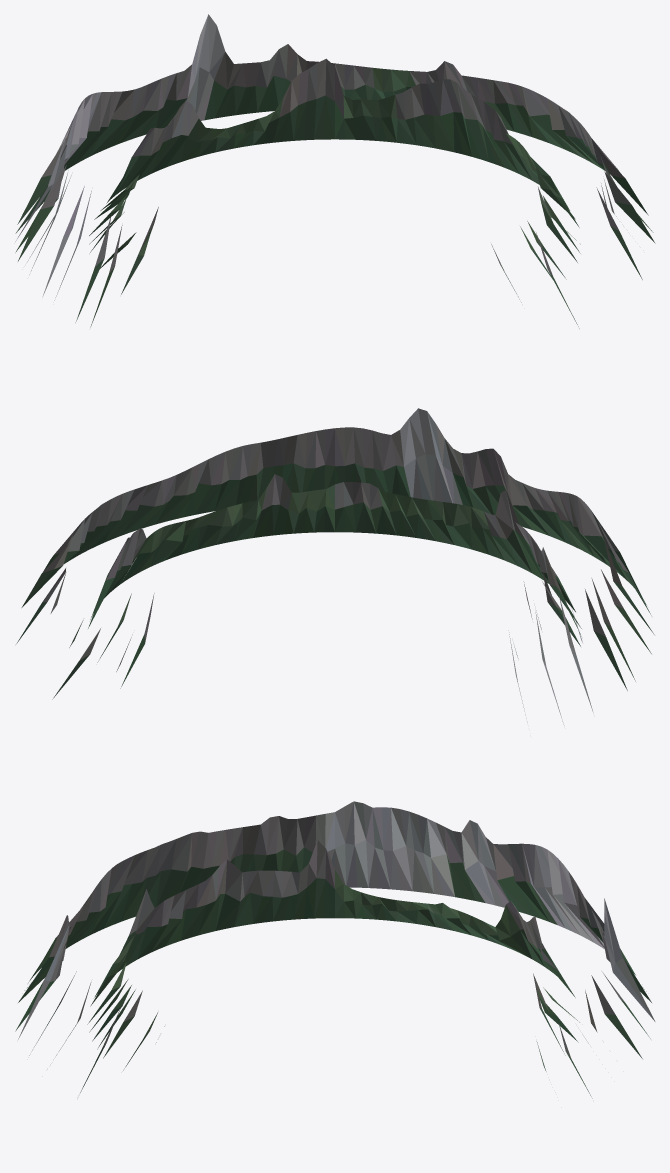
Rendered from skyline_forest.glb.
3 views of the same model, one above another, from view 1: azimuth 30°, elevation 25°; view 2: azimuth 150°, elevation 25°; view 3: azimuth 270°, elevation 25° (orthographic).
Parts seen in each view (by area): view 1: skyline; view 2: skyline; view 3: skyline.
Boxes of the visible parts, bbox=[...] form: skyline: bbox=[15, 14, 655, 328]; skyline: bbox=[16, 408, 654, 725]; skyline: bbox=[15, 801, 655, 1098].
Bounding box in the file's own units: 739 × 165 × 739.
